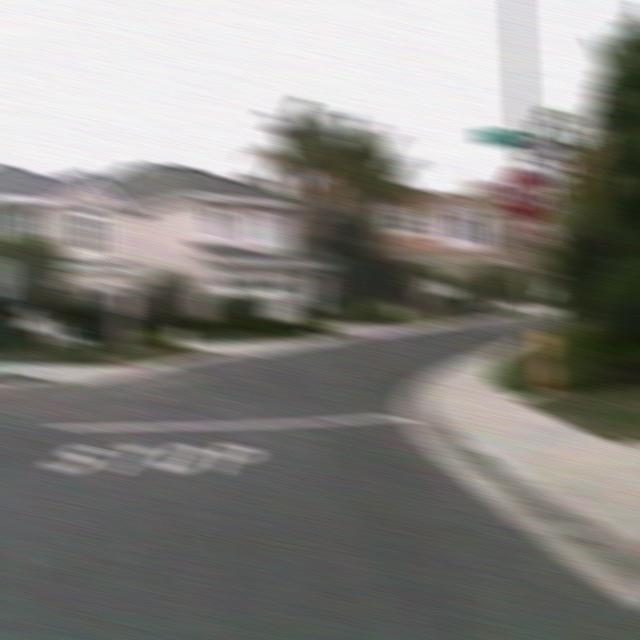stop_sign: (499, 166, 552, 226)
